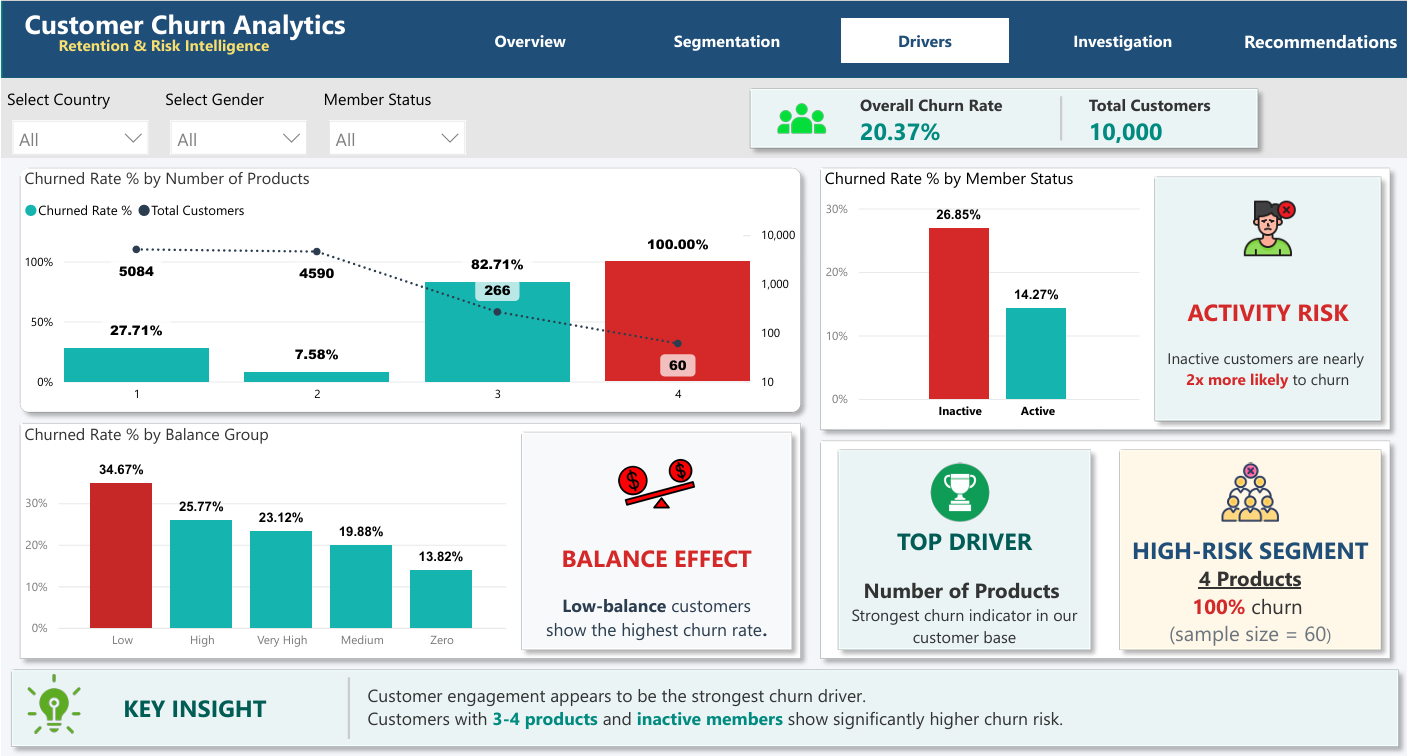

What the dashboard file says about the page in this screenshot:
{"tool":"powerbi","page":{"name":"Churn Drivers","canvas":[1280,720],"ordinal":2},"visuals":[{"type":"shape","box":[0,632,1280,88],"z":0},{"type":"shape","box":[8,408,728,232],"z":1000},{"type":"shape","box":[736,176,536,256],"z":2000},{"type":"shape","box":[736,424,536,216],"z":3000},{"type":"shape","box":[8,176,728,240],"z":4000},{"type":"shape","box":[0,20.4,1280,83.6],"z":5000},{"type":"textbox","box":[16,32,304,56],"z":6000},{"type":"textbox","box":[46.5,59.4,212.8,44.5],"z":7000},{"type":"actionButton","box":[584,49.5,152.4,39.6],"z":8000},{"type":"actionButton","box":[764,49.5,152.4,39.6],"z":9000},{"type":"actionButton","box":[944,49.5,152.4,39.6],"z":10000},{"type":"actionButton","box":[1124,49.5,152.4,39.6],"z":11000},{"type":"actionButton","box":[404.8,49.5,152.4,39.6],"z":12000},{"type":"lineStackedColumnComboChart","title":"Churned Rate % by Number of Products","fields":{"Category":["FactCustomer.NumOfProducts"],"Y":["FactCustomer.Churned Rate %"],"Y2":["FactCustomer.Total Customers"]},"box":[16,184,712,224],"z":13000},{"type":"columnChart","fields":{"Category":["FactCustomer.Balance Group"],"Y":["FactCustomer.Churned Rate %"]},"box":[16,416,448,216],"z":14000},{"type":"shape","box":[0,104,1320,72],"z":15000},{"type":"slicer","title":"Select Country","fields":{"Values":["FactCustomer.Geography"]},"box":[0,112,144,80],"z":16000},{"type":"slicer","title":"Select Gender","fields":{"Values":["FactCustomer.Gender"]},"box":[144,112,144,80],"z":17000},{"type":"slicer","title":"Member Status","fields":{"Values":["FactCustomer.Member Status"]},"box":[288,112,144,72],"z":18000},{"type":"clusteredColumnChart","fields":{"Category":["FactCustomer.Member Status"],"Y":["FactCustomer.Churned Rate %"]},"box":[744,184,296,240],"z":19000},{"type":"shape","box":[672,104,480,72],"z":20000},{"type":"shape","title":"dfdfgdfg","box":[464,416,264,216],"z":21000},{"type":"shape","box":[1040,184,224,240],"z":22000},{"type":"shape","box":[752,432,248,200],"z":23000},{"type":"shape","box":[1008,432,256,200],"z":24000},{"type":"textbox","box":[488,520,216,112],"z":25000},{"type":"textbox","box":[1016,512,240,136],"z":26000},{"type":"image","box":[1104,440,64,80],"z":27000},{"type":"textbox","box":[752,504,248,128],"z":28000},{"type":"image","box":[840,440,64,80],"z":29000},{"type":"image","box":[1120,208,64,64],"z":30000},{"type":"textbox","box":[1048,296,208,120],"z":31000},{"type":"image","box":[552,432,88,80],"z":32000},{"type":"image","box":[688,112,80,56],"z":33000},{"type":"image","box":[16,632,64,80],"z":34000},{"type":"shape","box":[272,648,88,56],"z":35000},{"type":"textbox","box":[96,656,160,40],"z":36000},{"type":"textbox","box":[344,424,296,296],"z":37000},{"type":"textbox","box":[328,648,752,56],"z":38000},{"type":"shape","box":[920,120,88,40],"z":39000},{"type":"textbox","box":[776,112,184,64],"z":40000},{"type":"textbox","box":[984,112,184,64],"z":41000}]}

Visuals, with their boxes on the page's 1280x720 design canvas (x1, y1, x2, y2). These are canvas units, not pixel positions in the 1407x756 screenshot, which may show the page scaled, cropped or inside an application window:
shape: [0, 632, 1280, 720]
shape: [8, 408, 736, 640]
shape: [736, 176, 1272, 432]
shape: [736, 424, 1272, 640]
shape: [8, 176, 736, 416]
shape: [0, 20, 1280, 104]
textbox: [16, 32, 320, 88]
textbox: [46, 59, 259, 104]
actionButton: [584, 50, 736, 89]
actionButton: [764, 50, 916, 89]
actionButton: [944, 50, 1096, 89]
actionButton: [1124, 50, 1276, 89]
actionButton: [405, 50, 557, 89]
"Churned Rate % by Number of Products" lineStackedColumnComboChart: [16, 184, 728, 408]
columnChart - FactCustomer.Balance Group x FactCustomer.Churned Rate %: [16, 416, 464, 632]
shape: [0, 104, 1320, 176]
"Select Country" slicer: [0, 112, 144, 192]
"Select Gender" slicer: [144, 112, 288, 192]
"Member Status" slicer: [288, 112, 432, 184]
clusteredColumnChart - FactCustomer.Member Status x FactCustomer.Churned Rate %: [744, 184, 1040, 424]
shape: [672, 104, 1152, 176]
"dfdfgdfg" shape: [464, 416, 728, 632]
shape: [1040, 184, 1264, 424]
shape: [752, 432, 1000, 632]
shape: [1008, 432, 1264, 632]
textbox: [488, 520, 704, 632]
textbox: [1016, 512, 1256, 648]
image: [1104, 440, 1168, 520]
textbox: [752, 504, 1000, 632]
image: [840, 440, 904, 520]
image: [1120, 208, 1184, 272]
textbox: [1048, 296, 1256, 416]
image: [552, 432, 640, 512]
image: [688, 112, 768, 168]
image: [16, 632, 80, 712]
shape: [272, 648, 360, 704]
textbox: [96, 656, 256, 696]
textbox: [344, 424, 640, 720]
textbox: [328, 648, 1080, 704]
shape: [920, 120, 1008, 160]
textbox: [776, 112, 960, 176]
textbox: [984, 112, 1168, 176]
